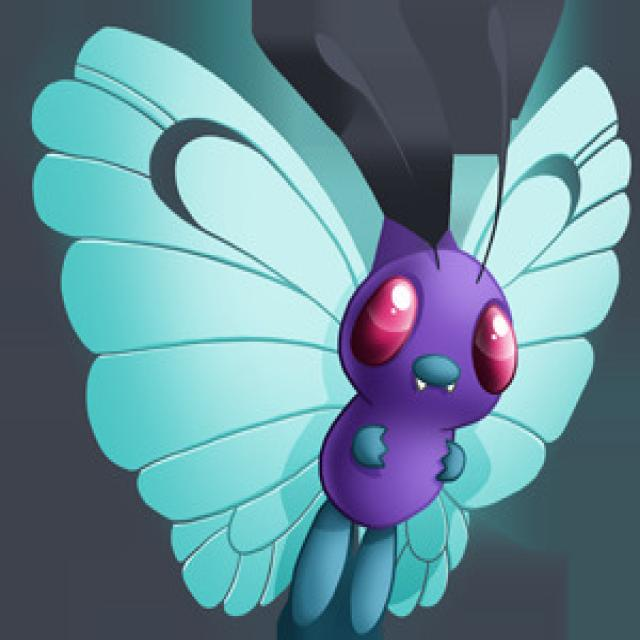Butterfree: (137, 109, 589, 636)
